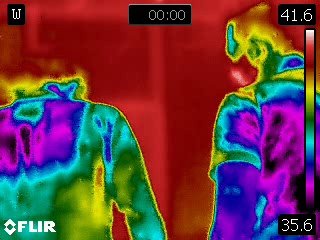human: (1, 57, 171, 240), (208, 1, 320, 240)
